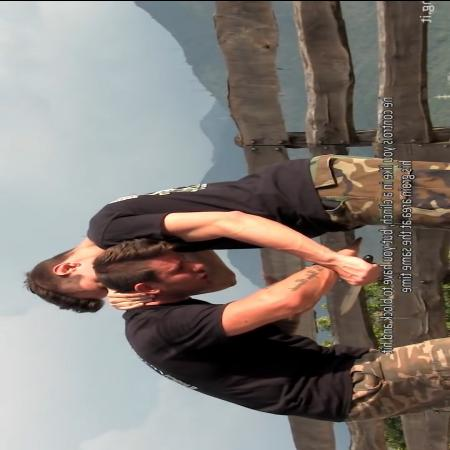long weapon: (328, 252, 380, 317)
